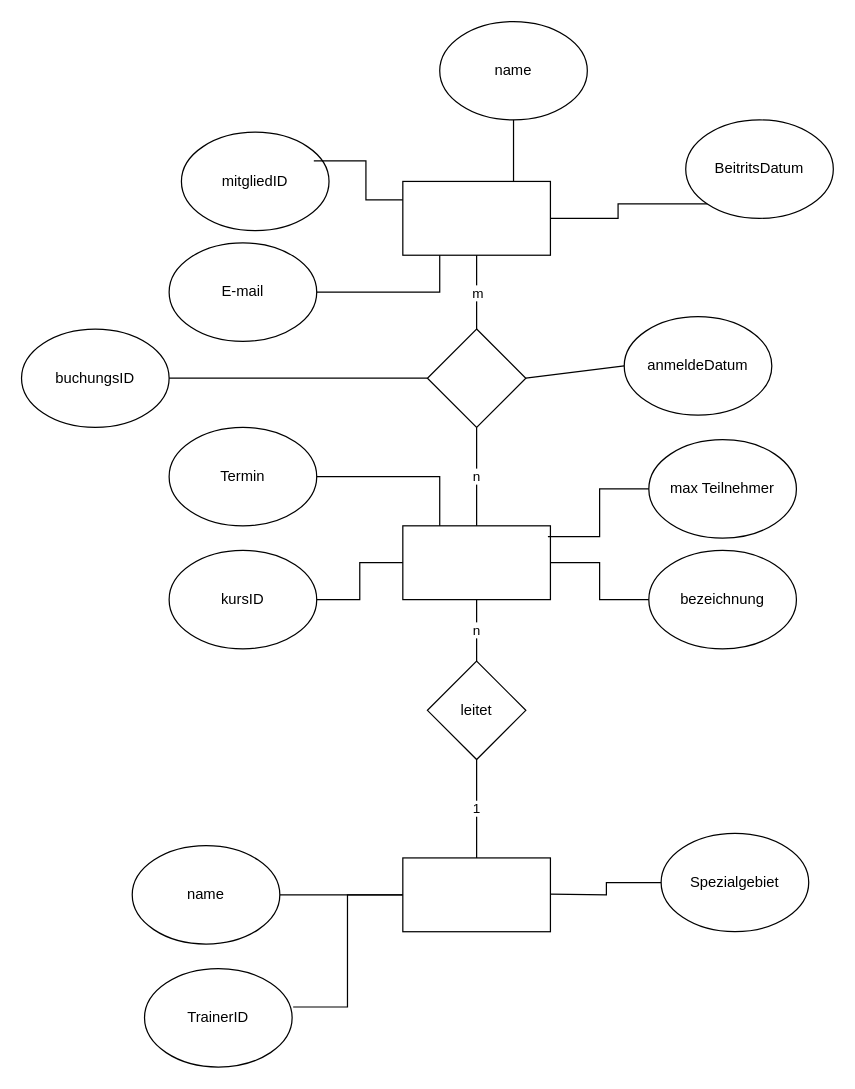
Image size: 855x1089. Some labels were removed from this diagram. The centre of each missing label's shape, as x and y in pixels:
bucht: the point at 476,377
kurse: the point at 476,562
mitglied: the point at 476,217
Trainer: the point at 476,894
